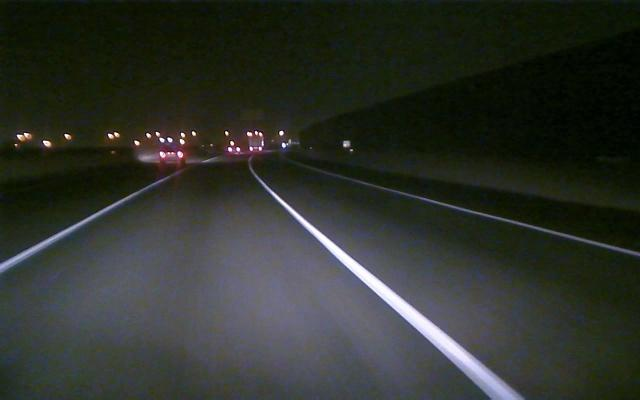lane: (260, 182, 527, 399), (352, 178, 640, 259), (2, 181, 160, 272)
